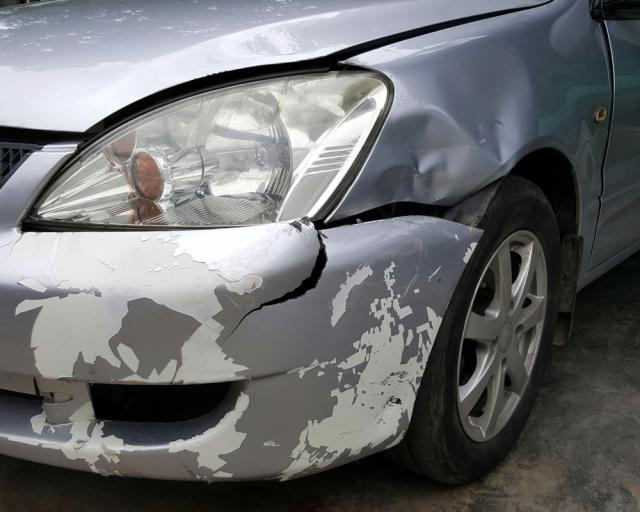crack: (373, 42, 530, 202), (219, 231, 329, 347)
scratch: (18, 232, 443, 481)
